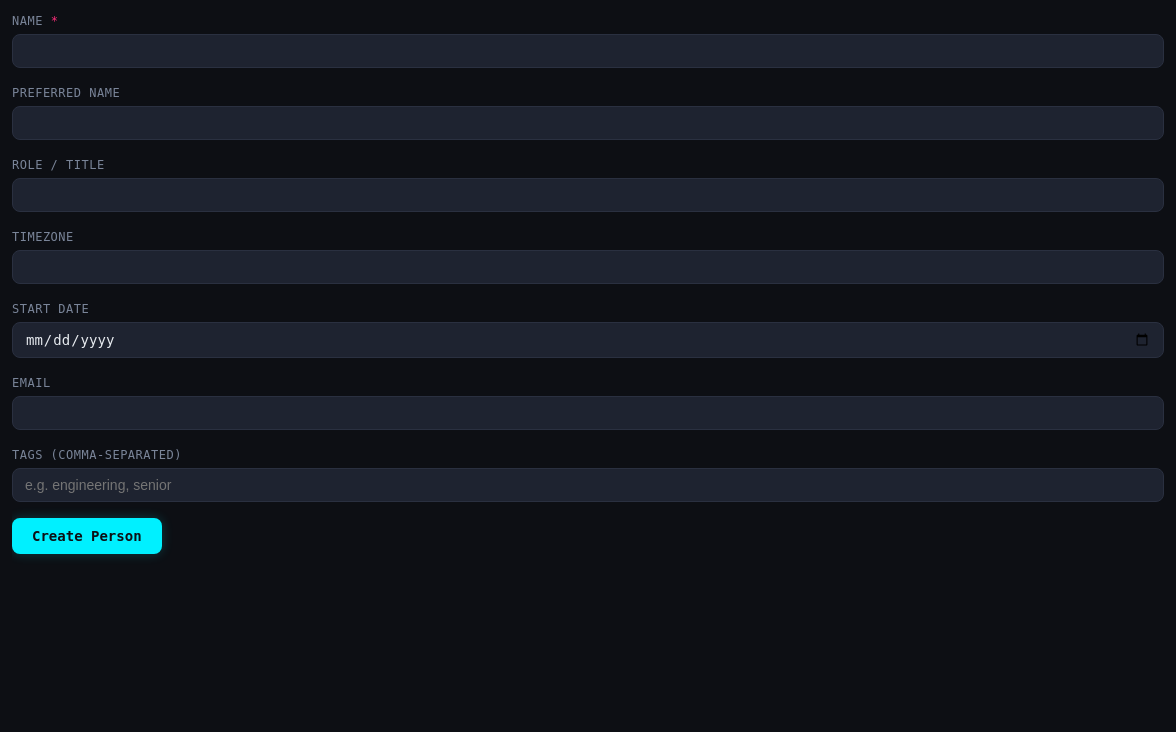
Test: PersonForm › should show validation error when name is blank on submit
This screenshot has width=1176, height=732.
Click the button "Create Person" at (87, 536), box [12, 518, 162, 554]
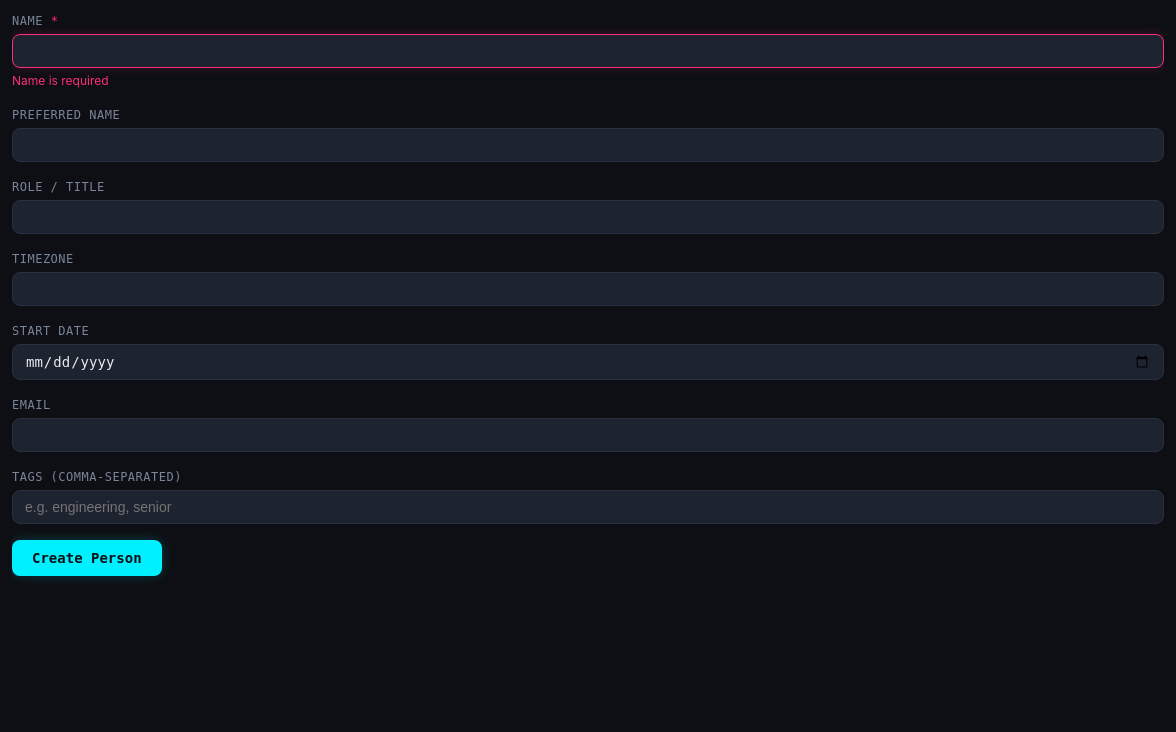
Expected: the text with test id "name-error" reads "Name is required", [12, 73, 109, 88]
